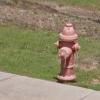Hydrant: (52, 12, 87, 94)
